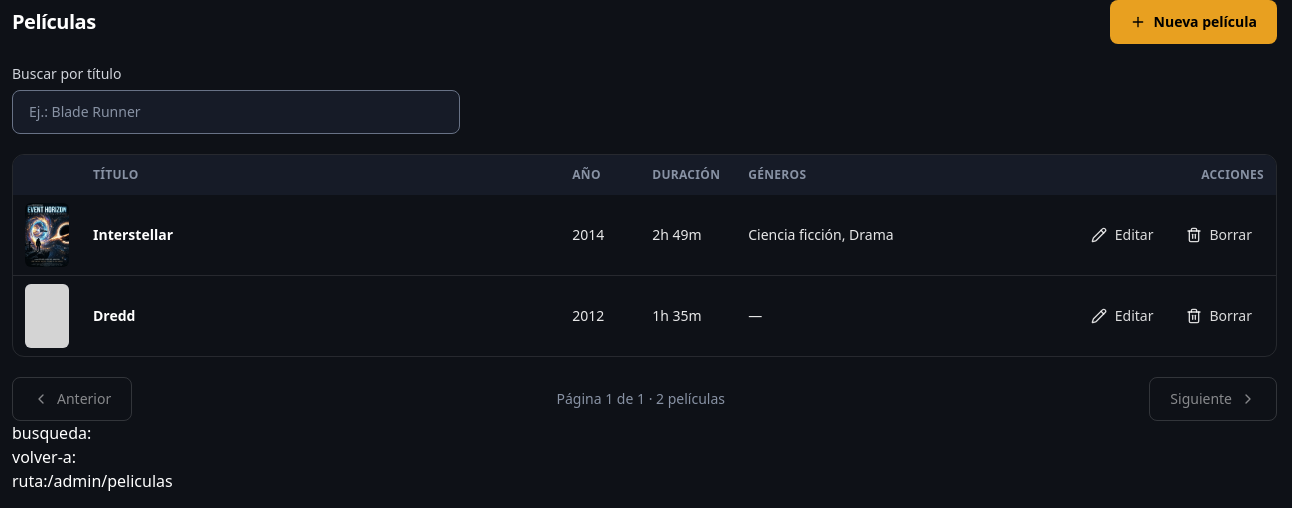
AdminMoviesPage: búsqueda › espera a que se deje de escribir (debounce): UNA petición por búsqueda, no una por letra
Expected: the row "Dredd 2012 1h 35m — Editar Borrar" is shown, [13,276,1276,356]
Click the search field labelled "Buscar por título": (236, 112) [12,90,460,134]
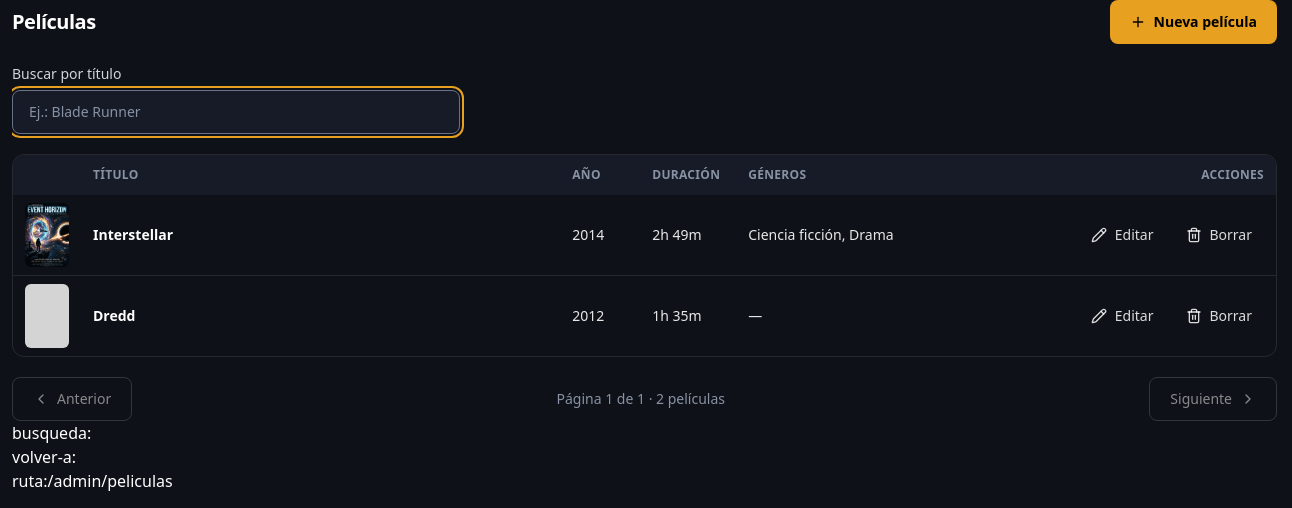
Type keys "i"
Wait 250 ms
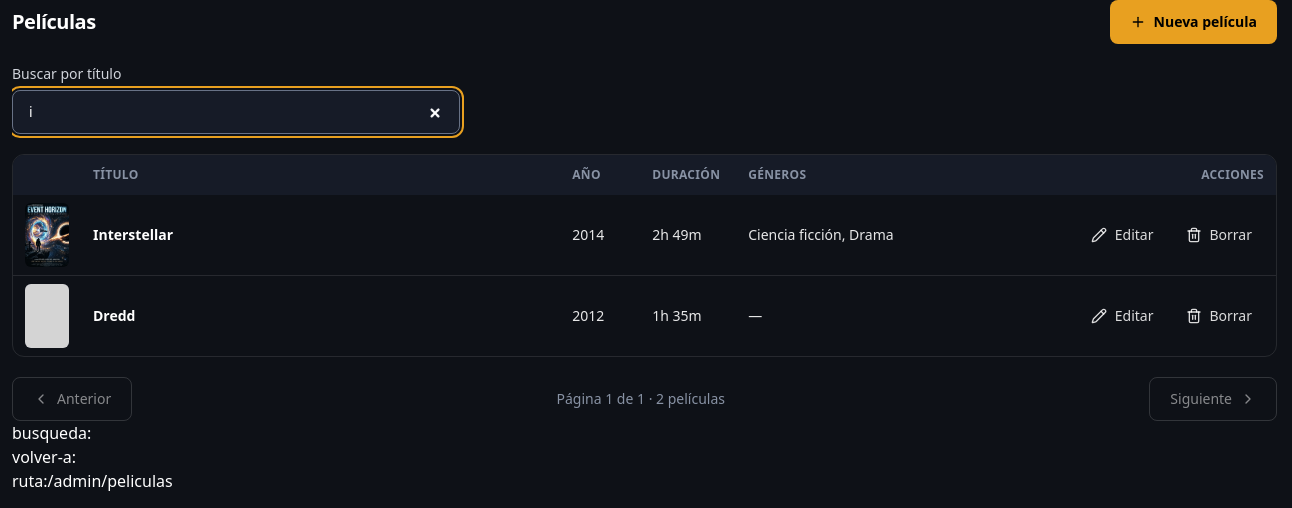
Type keys "n"
Wait 250 ms
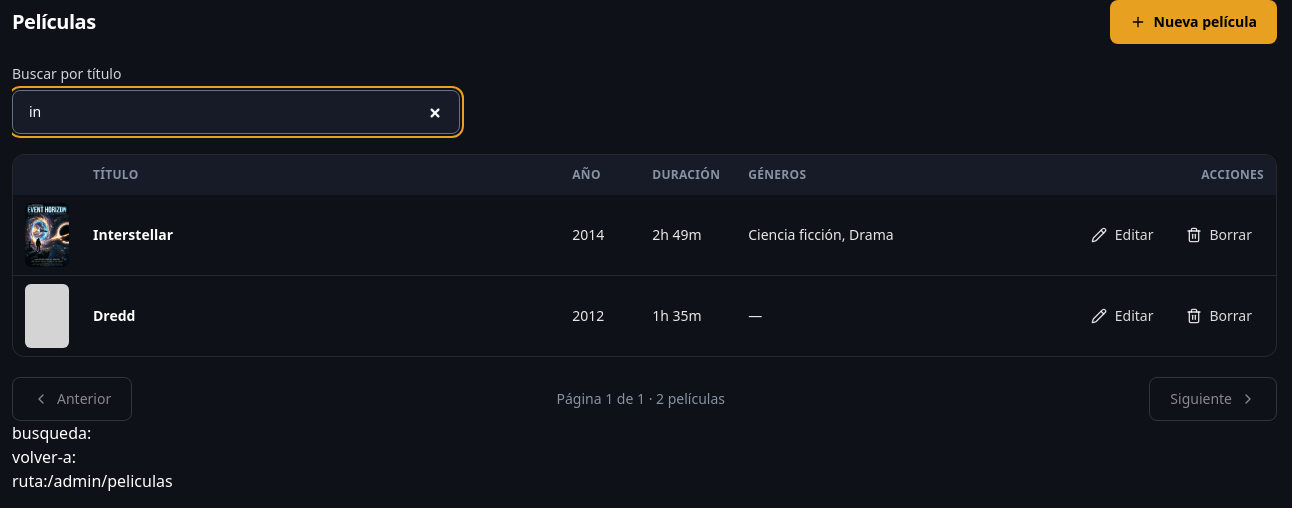
Type keys "t"
Wait 250 ms
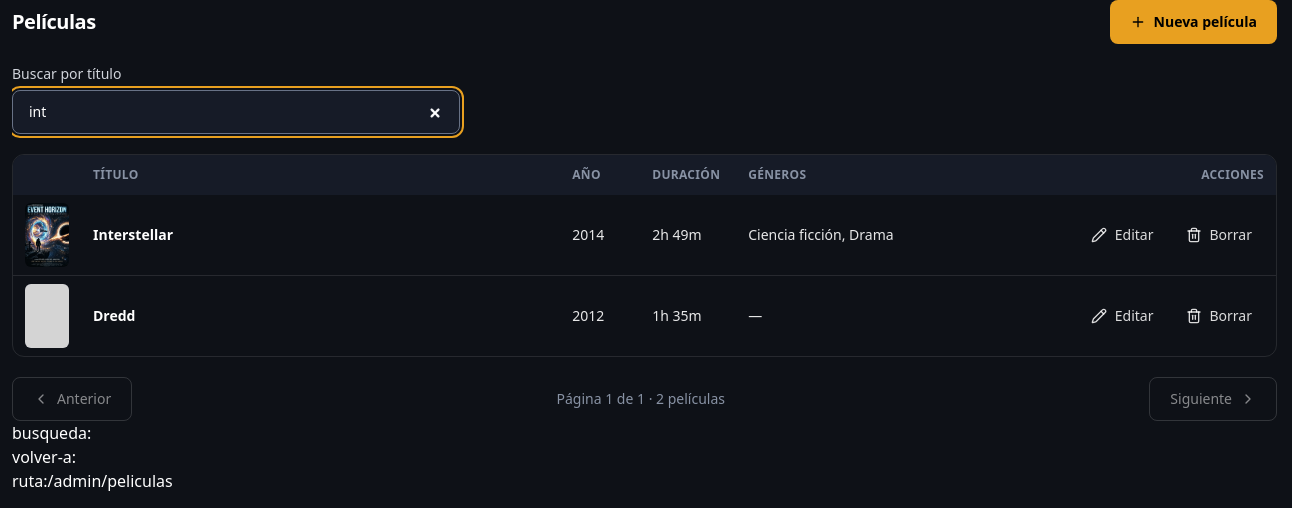
Type keys "e"
Wait 250 ms
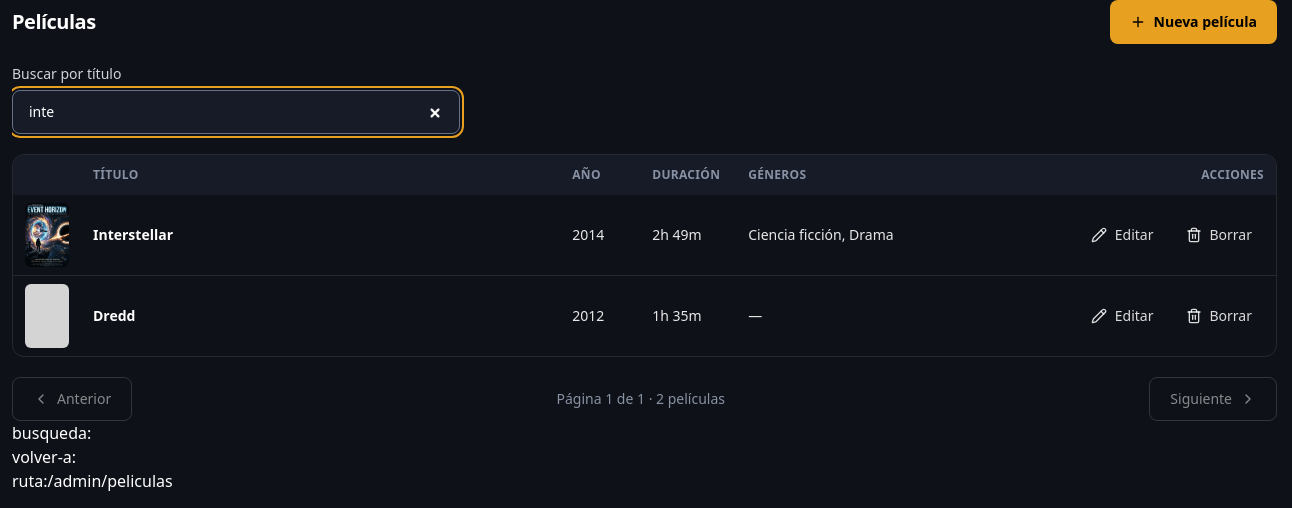
Type keys "r"
Wait 300 ms
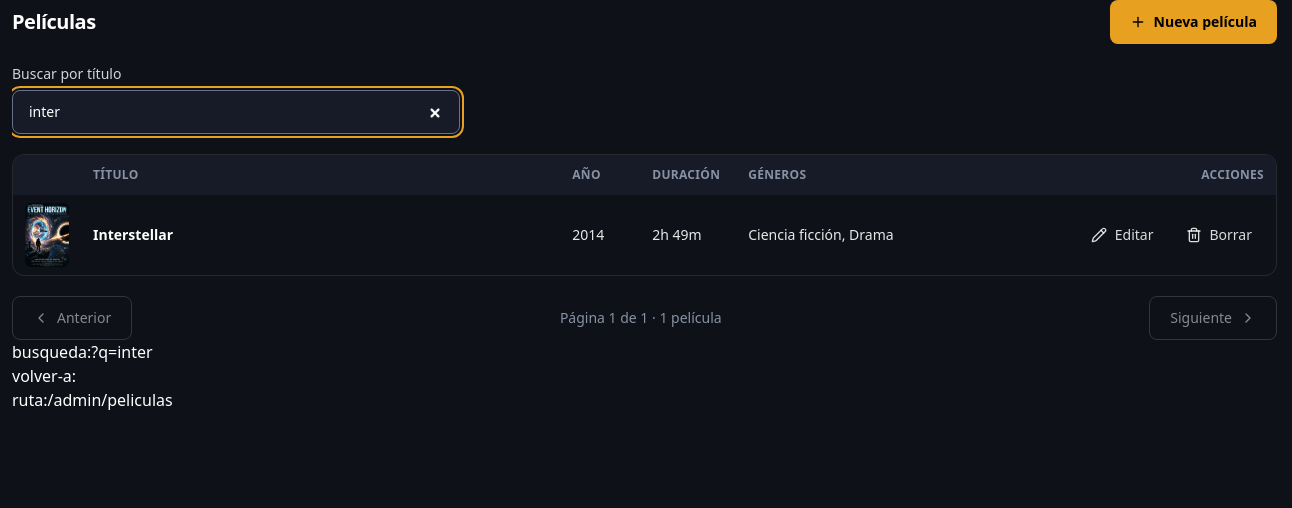
Expected: the row "Interstellar" is shown, [13,195,1276,275]
Result: the text "Dredd" is gone
Result: the text "busqueda:?q=inter" is shown at [12,341,153,363]
